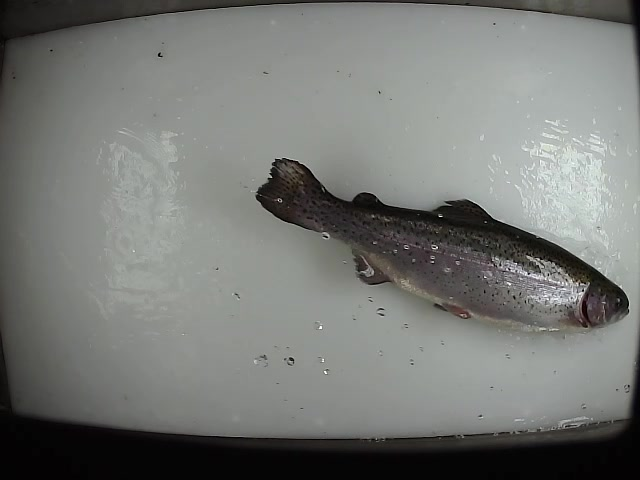Fish: (251, 157, 629, 332)
